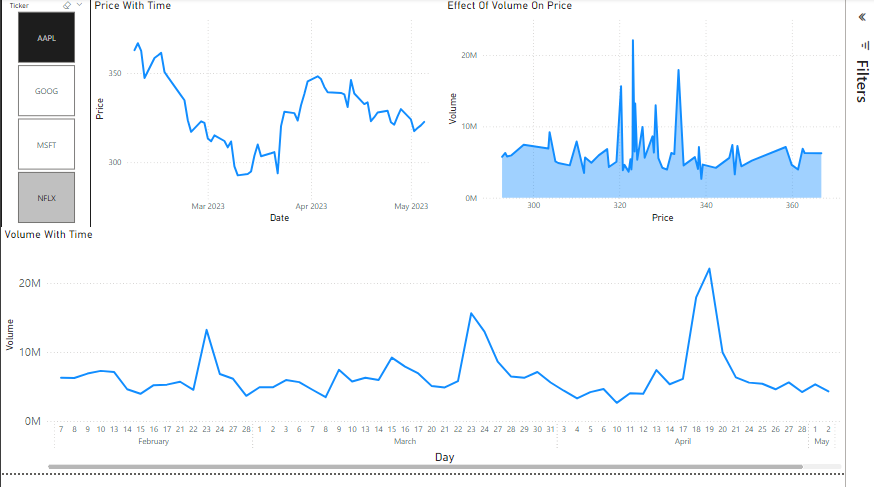

Layout of this report page (visuals, bound fields, positions):
{"tool":"powerbi","page":{"name":"Page 1","canvas":[1280,720],"ordinal":0},"visuals":[{"type":"slicer","fields":{"Values":["stocks.Ticker"]},"box":[0,0,136.1,348.1],"z":0},{"type":"lineChart","title":"Volume With Time","fields":{"Category":["stocks.Date.Variation.Date Hierarchy.Month","stocks.Date.Variation.Date Hierarchy.Day"],"Y":["Sum(stocks.Volume)"]},"box":[0,348.1,1280,372.5],"z":1000},{"type":"lineChart","title":"Price With Time","fields":{"Y":["Sum(stocks.Close)"],"Category":["stocks.Date.Variation.Date Hierarchy.Year","stocks.Date.Variation.Date Hierarchy.Quarter","stocks.Date.Variation.Date Hierarchy.Month","stocks.Date.Variation.Date Hierarchy.Day"]},"box":[136.1,0,536.4,346.5],"z":1001},{"type":"areaChart","title":"Effect Of Volume On Price","fields":{"Y":["Sum(stocks.Volume)"],"Category":["stocks.Close"]},"box":[672,0,608,346],"z":1002}]}

Visuals, with their boxes in screenshot pixels (x1, y1, x2, y2):
slicer - stocks.Ticker: <region>0, 7, 88, 231</region>
"Volume With Time" lineChart: <region>0, 231, 824, 471</region>
"Price With Time" lineChart: <region>88, 7, 433, 230</region>
"Effect Of Volume On Price" areaChart: <region>432, 7, 824, 229</region>
